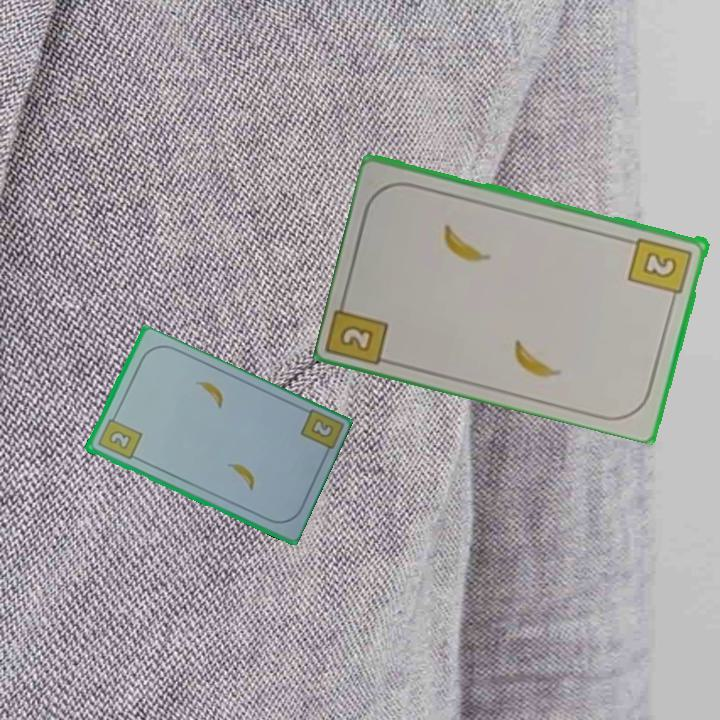2b: (626, 234, 696, 305), (94, 410, 144, 462), (296, 406, 343, 460), (336, 321, 377, 355)
